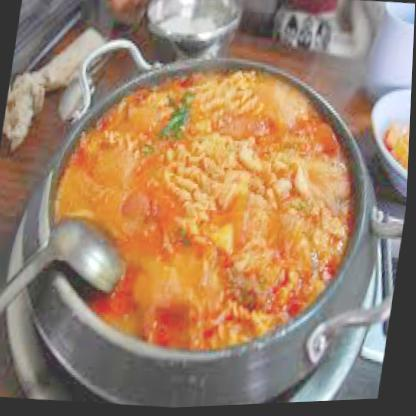budaejjigae: (38, 40, 388, 379)
